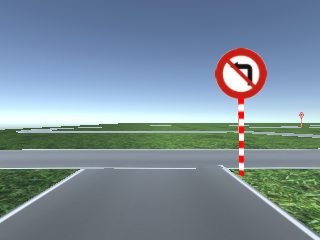-5: (1, 177, 320, 239)
NoLeft: (215, 48, 268, 100)
